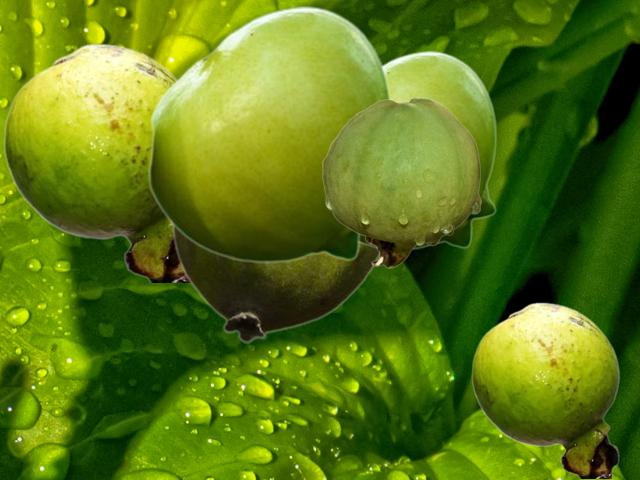guava: (147, 5, 391, 262), (3, 43, 187, 281), (361, 50, 496, 249), (322, 97, 480, 267), (471, 302, 619, 477), (171, 225, 378, 342)
